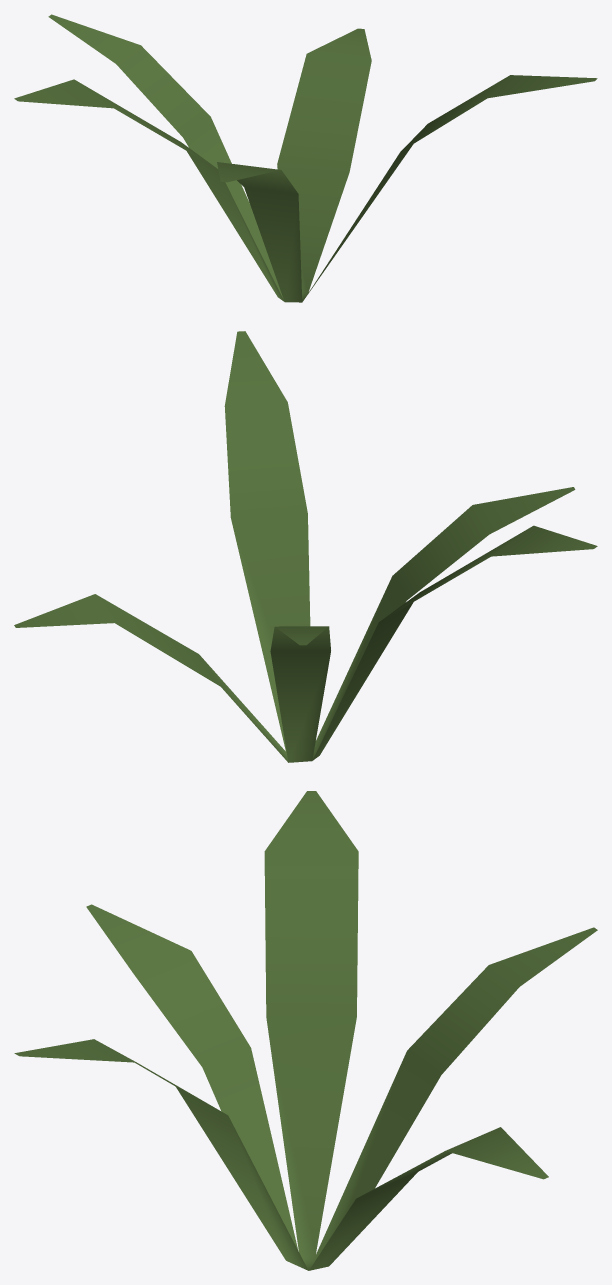
File: SM_Grass_04.fbx
3 views of the same model, one above another, from view 1: azimuth 30°, elevation 25°; view 2: azimuth 150°, elevation 25°; view 3: azimuth 270°, elevation 25° (orthographic). The views are drawn at different scales.
Parts seen in each view (by area): view 1: Grass_small; view 2: Grass_small; view 3: Grass_small.
Part boxes in pixels (left/top/right/bottom): Grass_small: left=14, top=14, right=597, bottom=302; Grass_small: left=14, top=331, right=597, bottom=762; Grass_small: left=14, top=791, right=597, bottom=1270.
Size of the model in its own units: 41.35 by 22.77 by 38.46.
